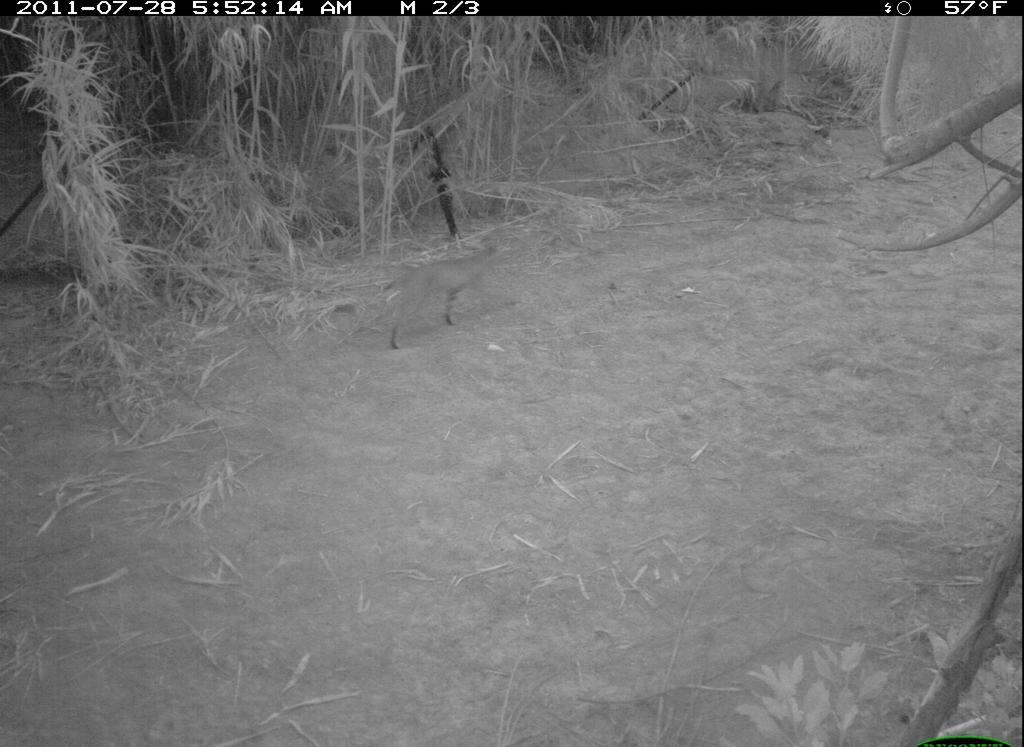bobcat: (376, 241, 510, 359)
